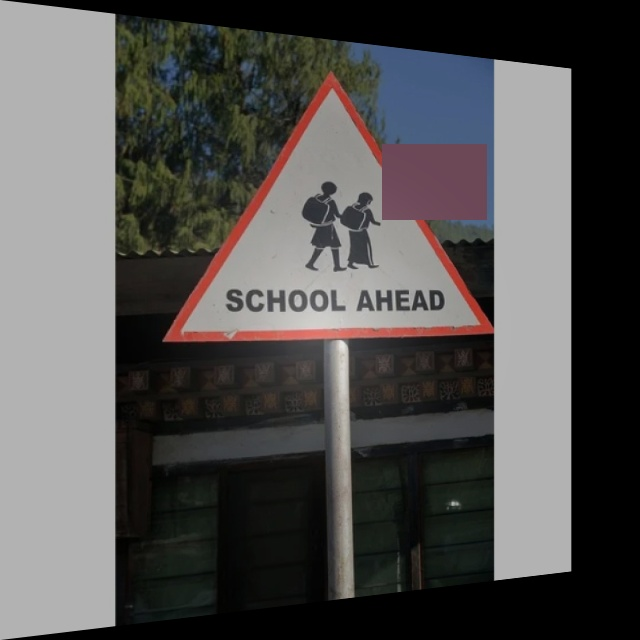School_Ahead: (188, 56, 486, 345)
